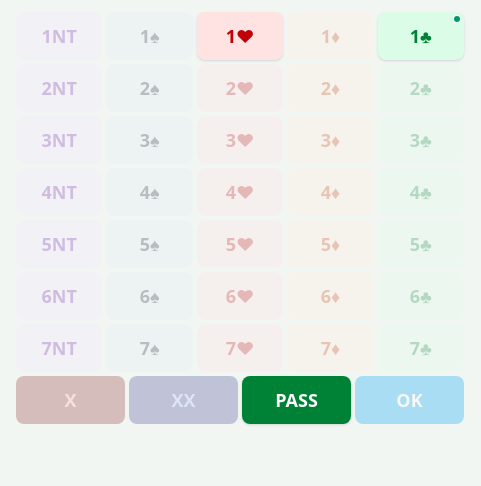
Test case: BiddingBox › ett eget bud (ej rekommendationen) får en tolkad förklaring — aldrig tomt
Click the button "1♥": (240, 36) [197, 12, 283, 60]
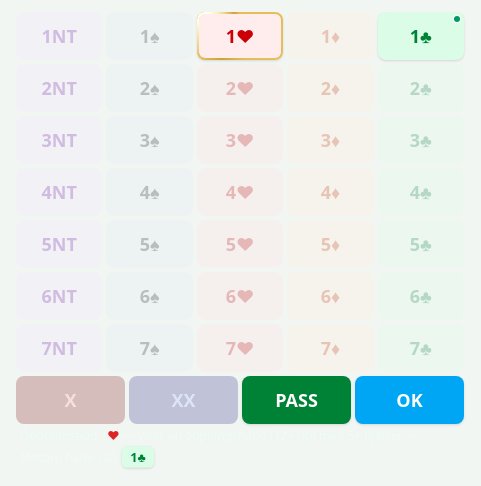
expect the text "— Motorn hade valt" is shown: met, box [20, 427, 419, 466]
